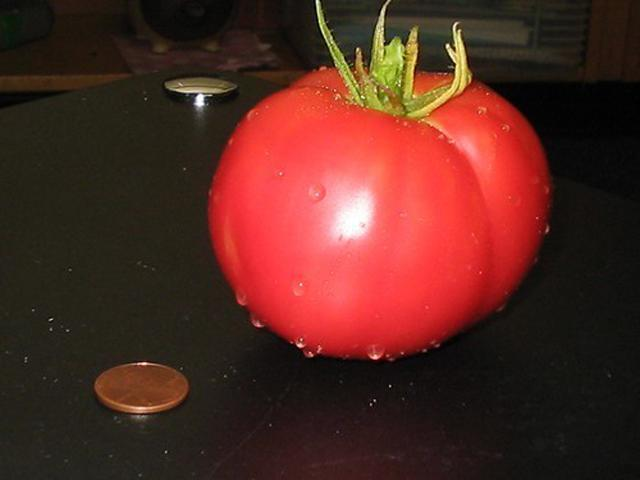tomato: (209, 65, 553, 360)
